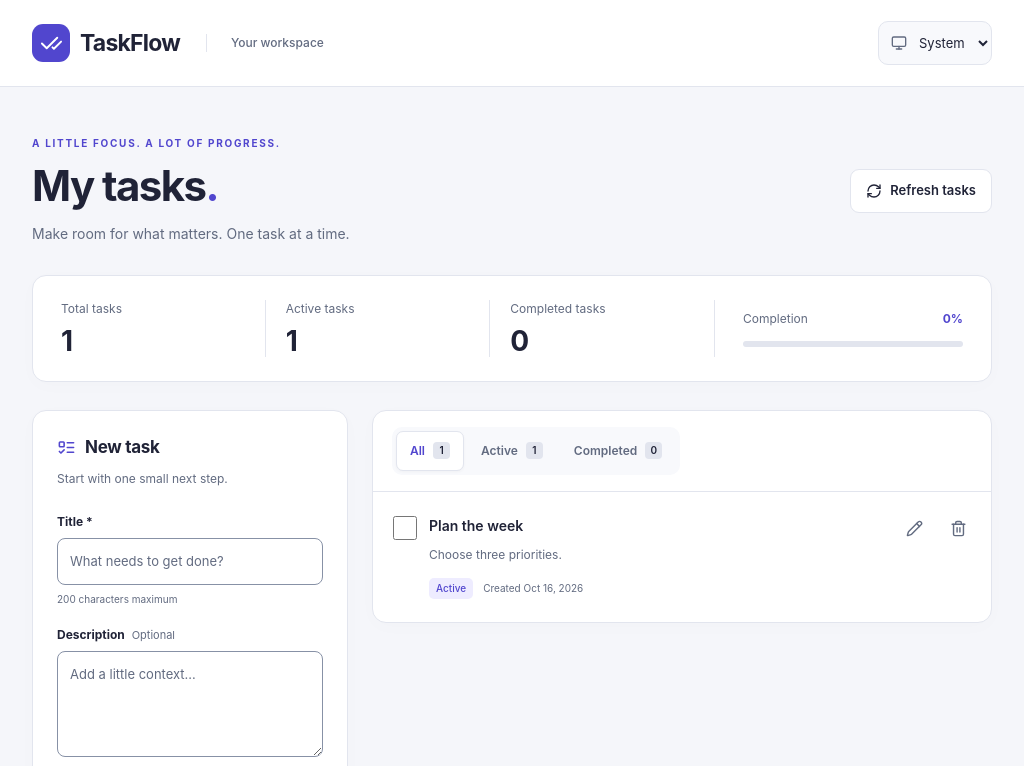
Scenario: Task workspace › confirms deletion only after an explicit second action
Click the button named "Delete Plan the week": [958, 529] box [936,507,980,551]
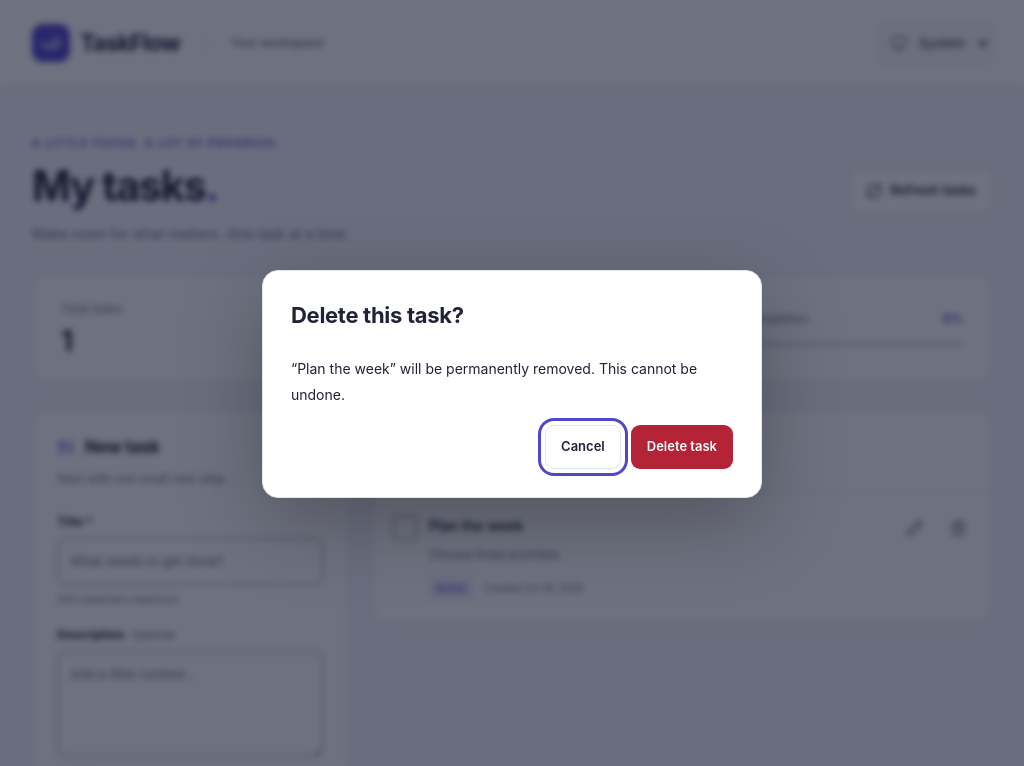
Click the button "Cancel": [583, 447] box [545,425,621,469]
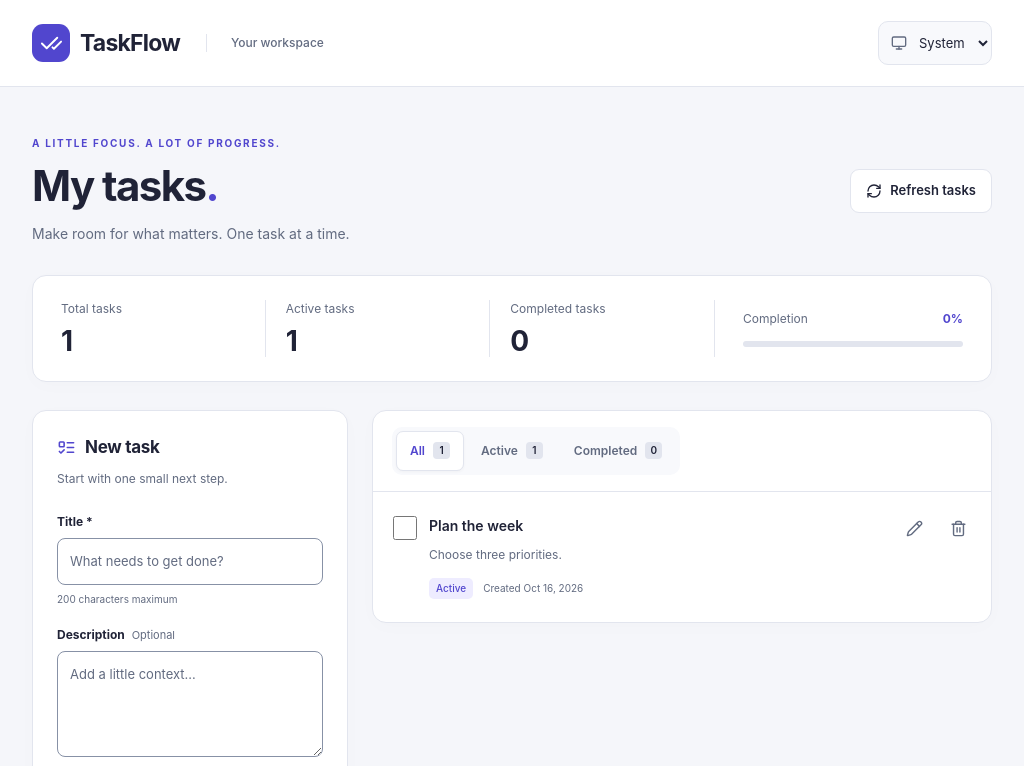
Expected: the heading "Plan the week" is shown, [429,517,523,534]
Click the button named "Delete Plan the week": [958, 529] box [936,507,980,551]
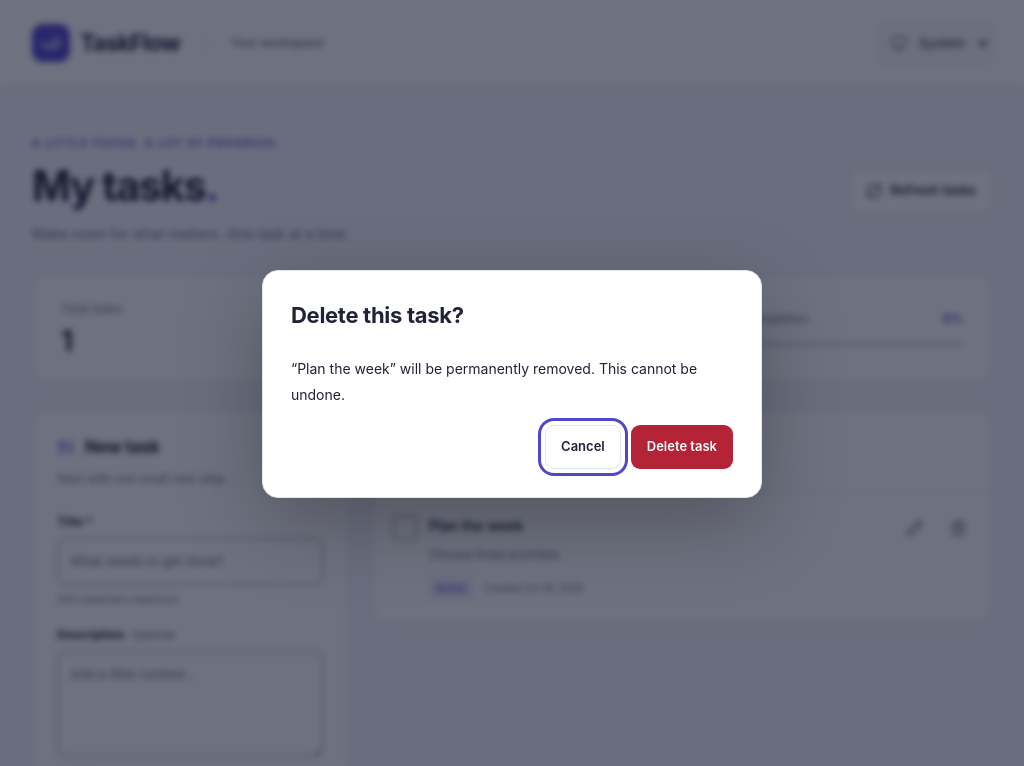
Click the button "Delete task": [682, 447] box [631,425,733,469]
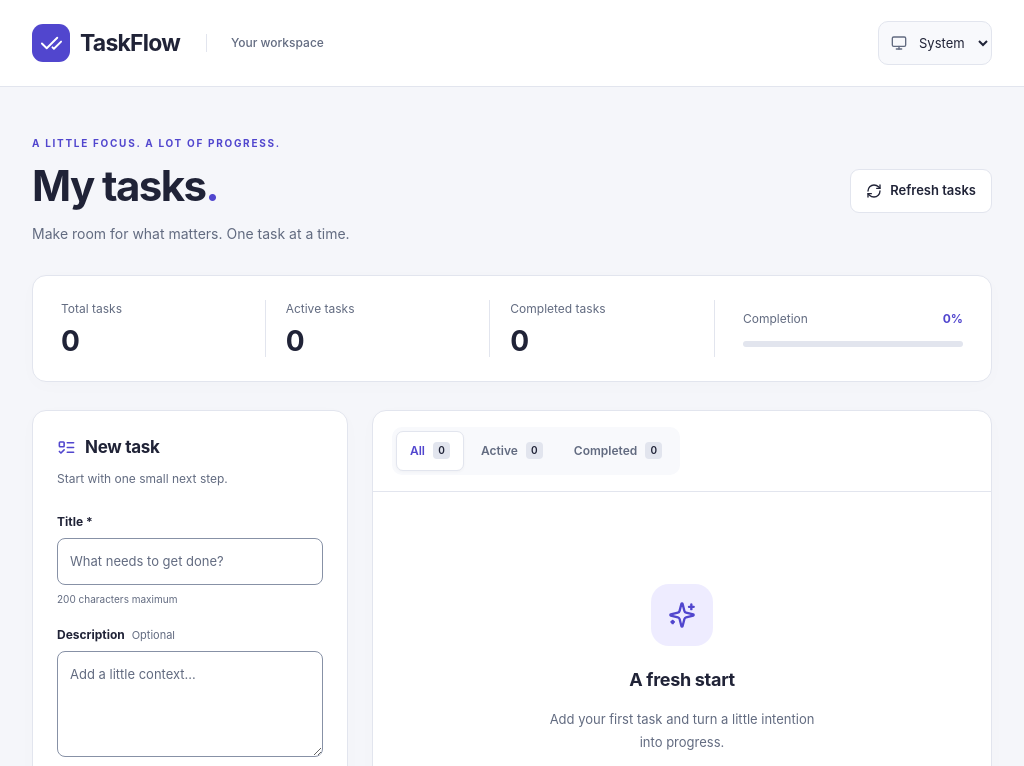
Result: the heading "A fresh start" is shown at [629,666,735,693]
